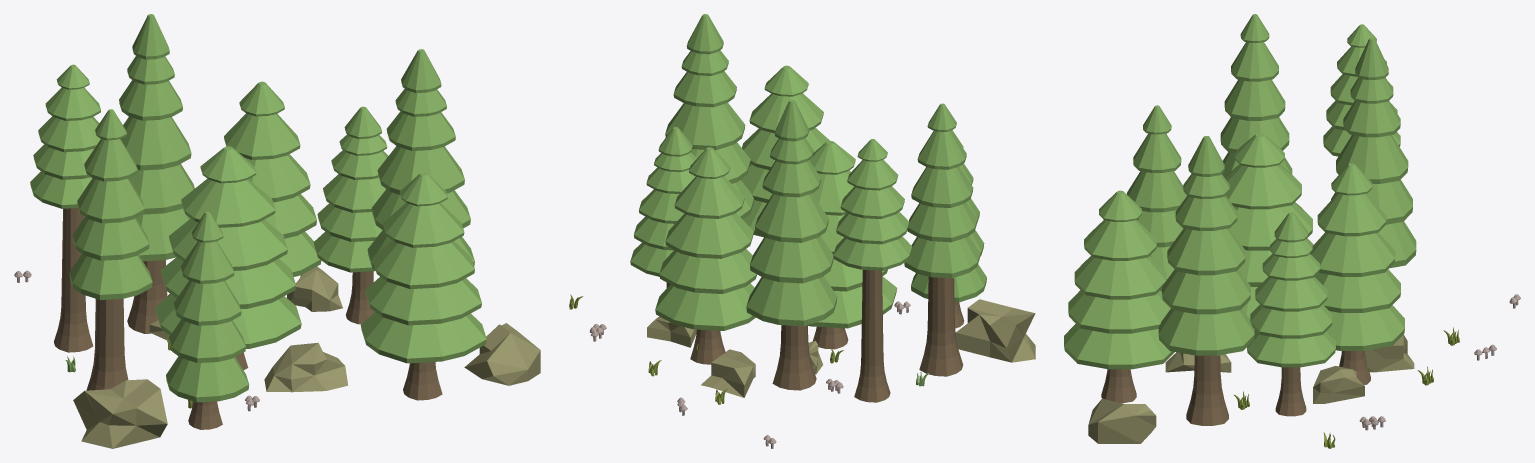
Rendered from ForrestC.fbx.
3 renders of one model, left to right at view 1: azimuth 30°, elevation 25°; view 2: azimuth 150°, elevation 25°; view 3: azimuth 270°, elevation 25°, orthographic. The views are drawn at different scales.
Parts seen in each view (by area): view 1: ForrestE; view 2: ForrestE; view 3: ForrestE.
Part boxes in pixels (x1,y1,x2,y2): ForrestE: (14, 14, 540, 448); ForrestE: (569, 14, 1035, 448); ForrestE: (1064, 14, 1520, 448).
Size of the model in its own units: 4316 by 3034 by 4184.
